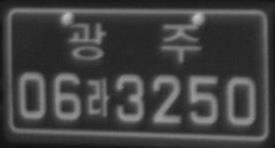0: (225, 75, 257, 128), (17, 71, 47, 120)
2: (151, 72, 183, 125)
3: (114, 73, 146, 124)
5: (188, 73, 219, 125)
6: (53, 71, 82, 122)
광주_D: (67, 21, 202, 63)
라: (85, 76, 110, 117)
